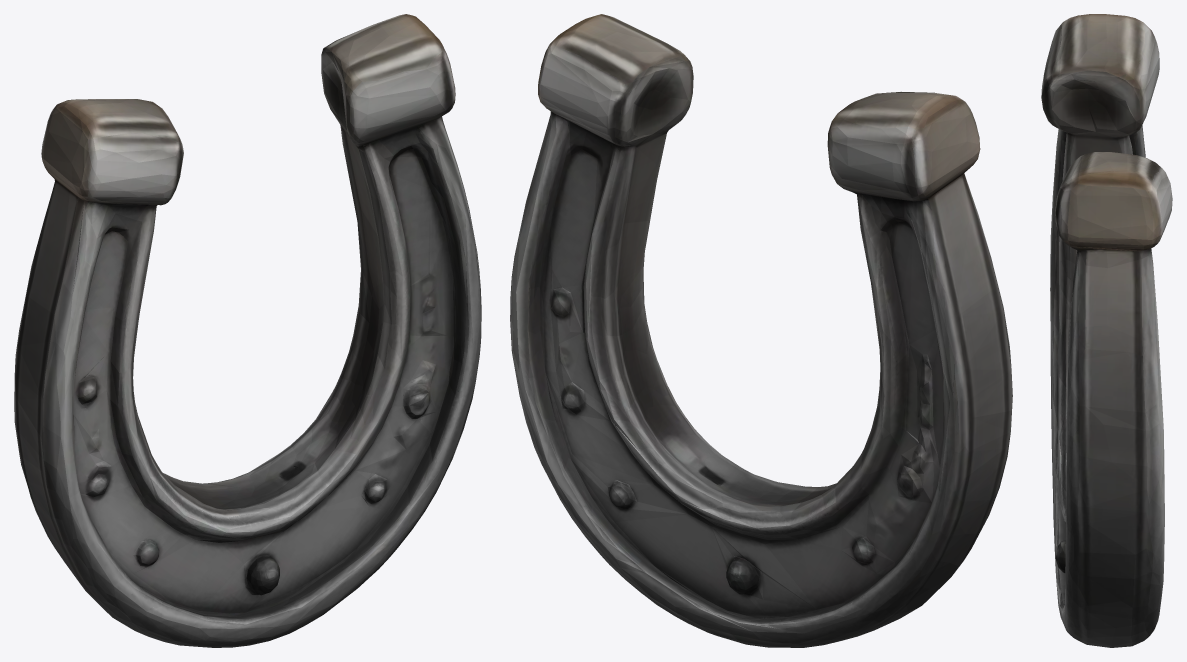
File: horseshoe.glb
3 renders of one model, left to right at view 1: azimuth 30°, elevation 25°; view 2: azimuth 150°, elevation 25°; view 3: azimuth 270°, elevation 25°, orthographic. The views are drawn at different scales.
Visible parts, largest first — view 1: world; view 2: world; view 3: world.
Part boxes in pixels (box(x1,y1,x2,y2)): world: box(14, 14, 481, 647); world: box(510, 14, 1012, 647); world: box(1041, 14, 1172, 647).
Bounding box in the file's own units: 0.8299 × 0.997 × 0.2209.
1 material, 1 textured.
